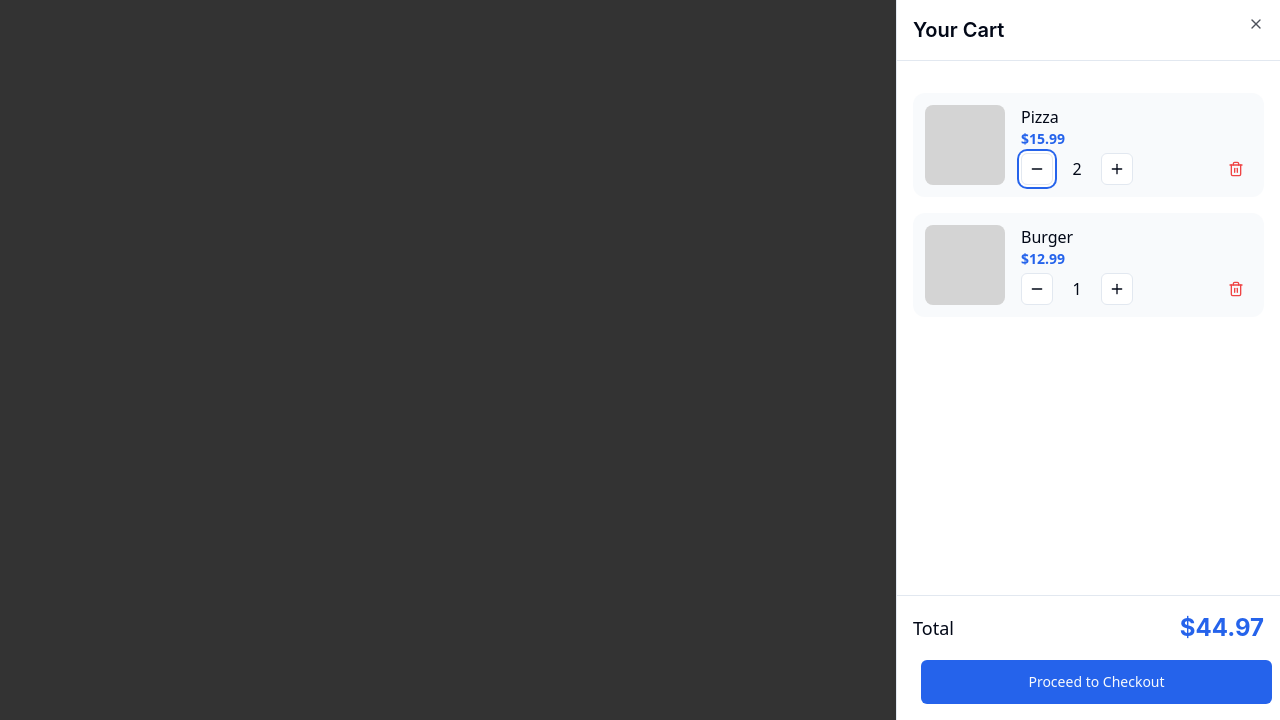
CartDrawer › shows checkout form when proceed to checkout is clicked
The width and height of the screenshot is (1280, 720).
Click the button "Proceed to Checkout" at (1096, 682), box top-left (921, 660), bottom-right (1272, 704)
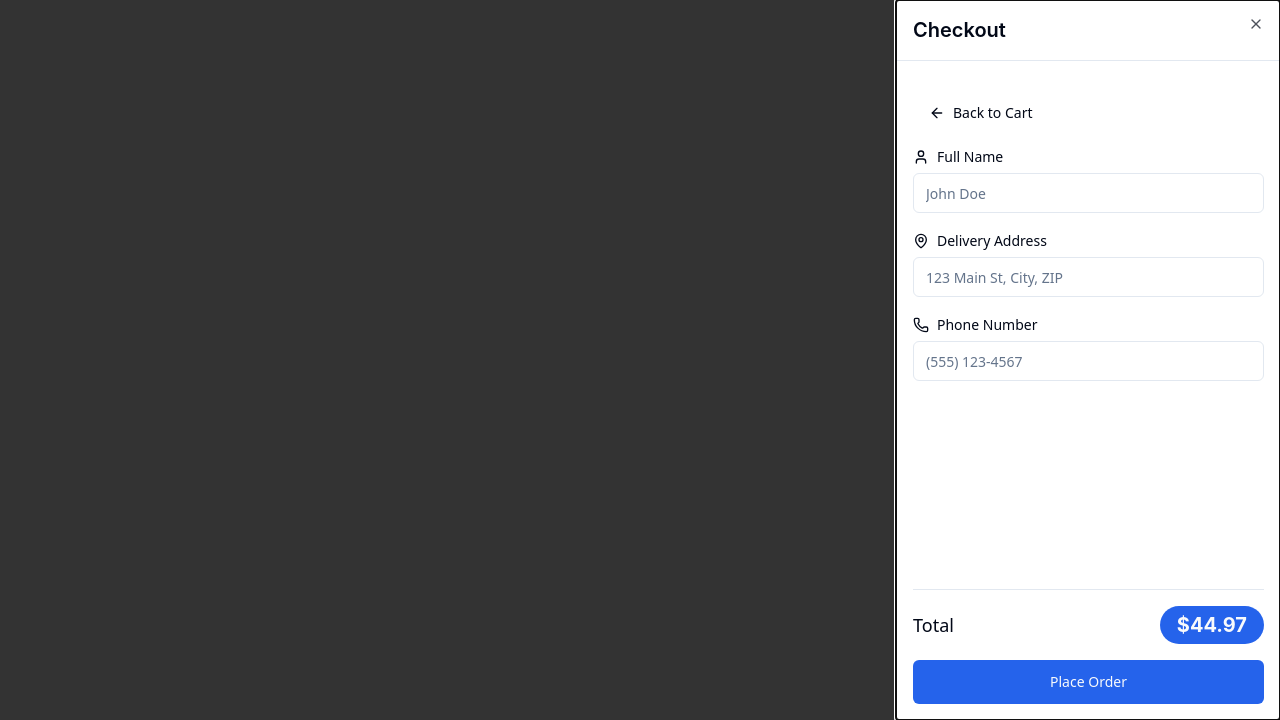
Expected: the heading "Checkout" is shown, top-left (913, 18), bottom-right (1006, 42)
